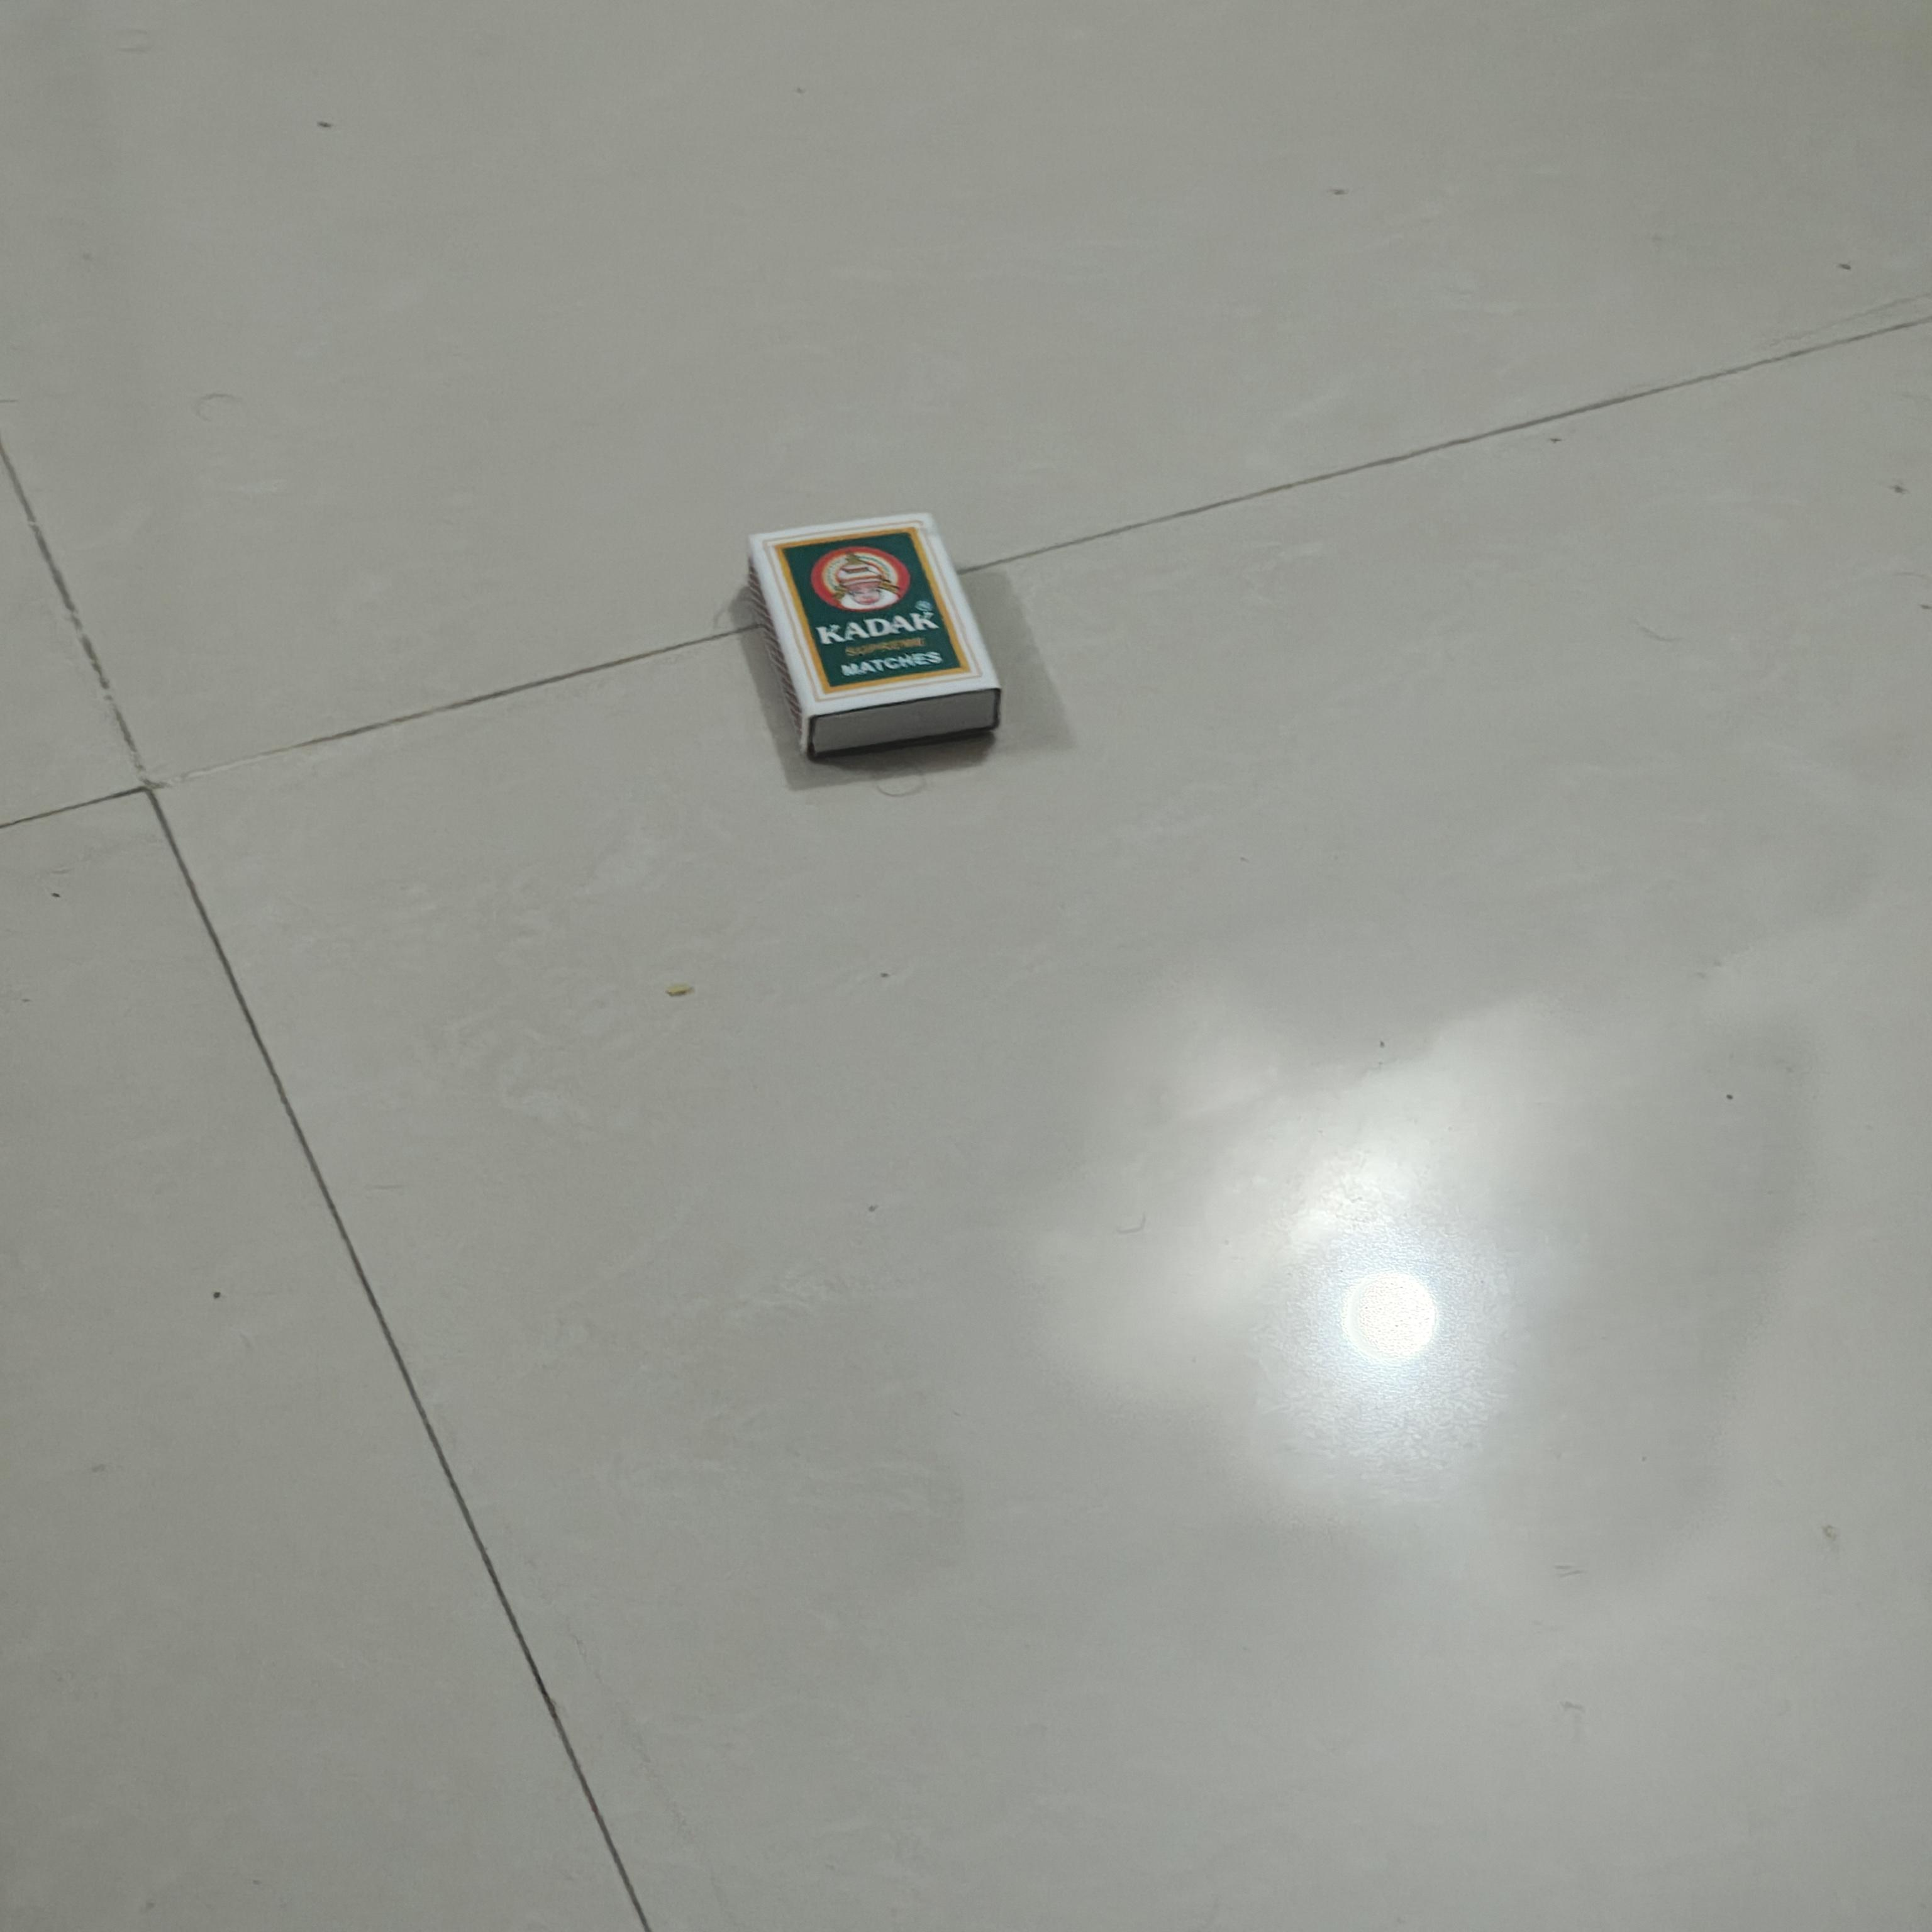garbage: (750, 515, 1001, 757)
